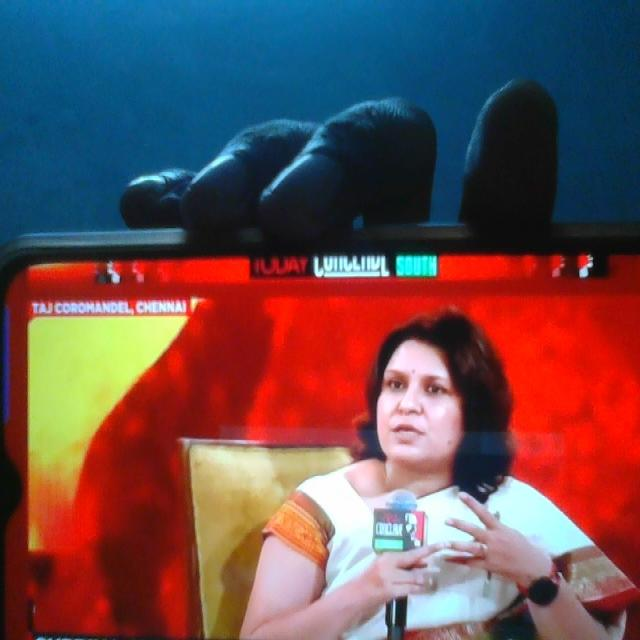fake: (370, 292, 478, 496)
